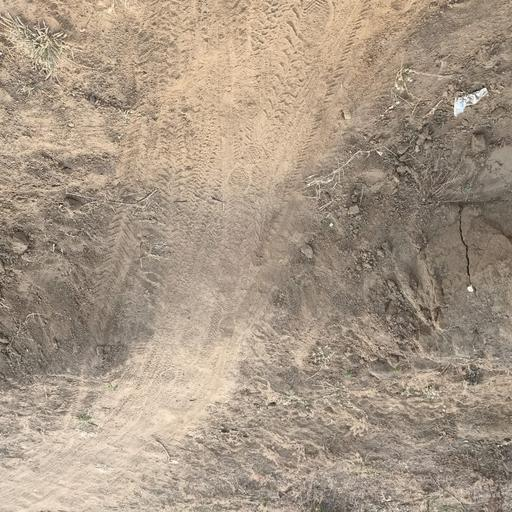vehicle_track: (0, 0, 444, 512)
